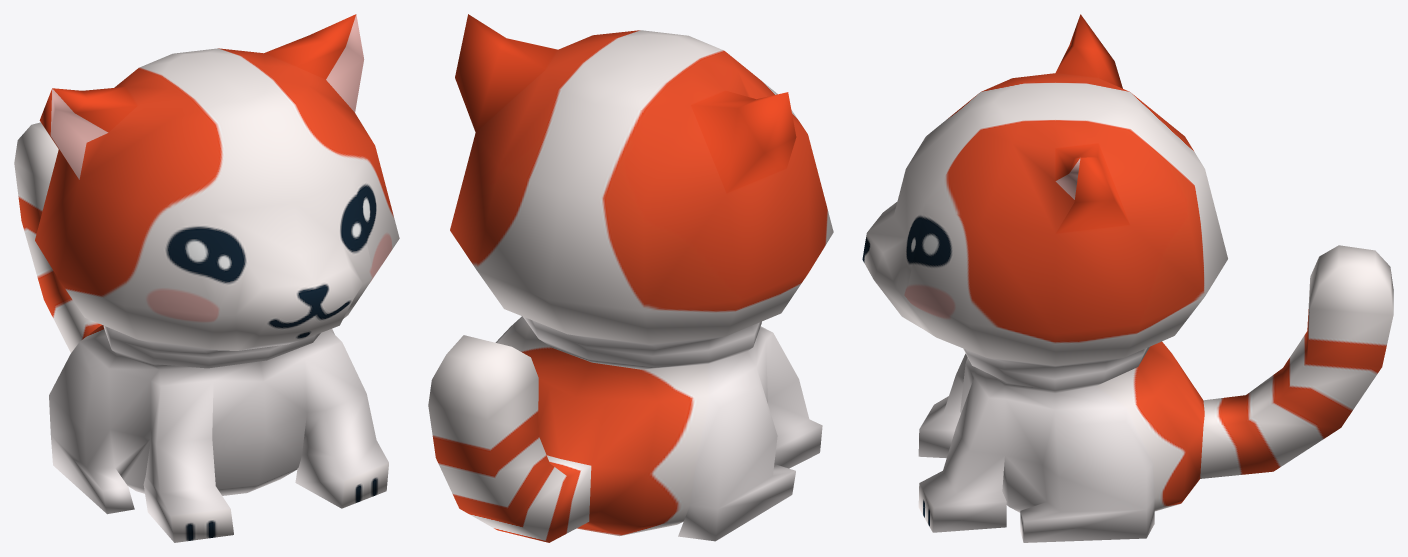
Rendered from cats.glb.
3 views of the same model, side by side, from view 1: azimuth 30°, elevation 25°; view 2: azimuth 150°, elevation 25°; view 3: azimuth 270°, elevation 25° (orthographic). The views are drawn at different scales.
Visible parts, largest first — view 1: Object_0; view 2: Object_0; view 3: Object_0.
Boxes of the visible parts, x1,y1,x2,y2 form: Object_0: [14, 14, 399, 542]; Object_0: [428, 14, 833, 542]; Object_0: [862, 14, 1393, 542].
Size of the model in its own units: 1.88 by 2.32 by 2.81.
1 material, 1 textured.
